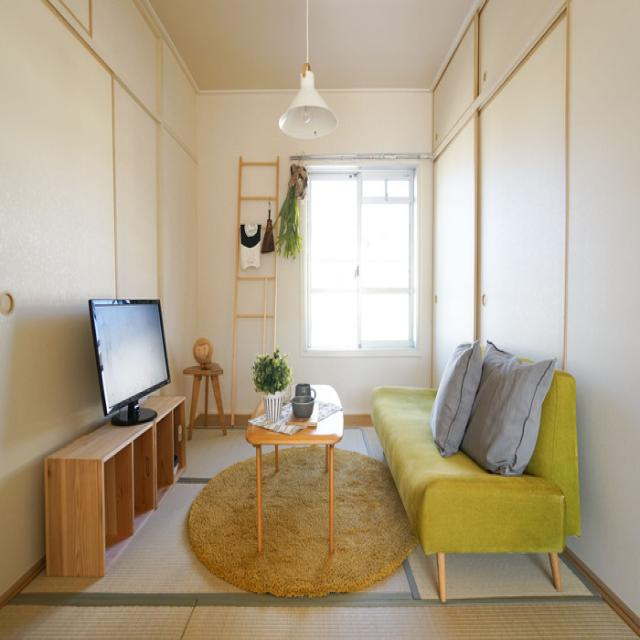modern desk: (246, 372, 346, 554)
modern shelf: (40, 390, 191, 578)
modern sofa: (368, 338, 591, 604)
